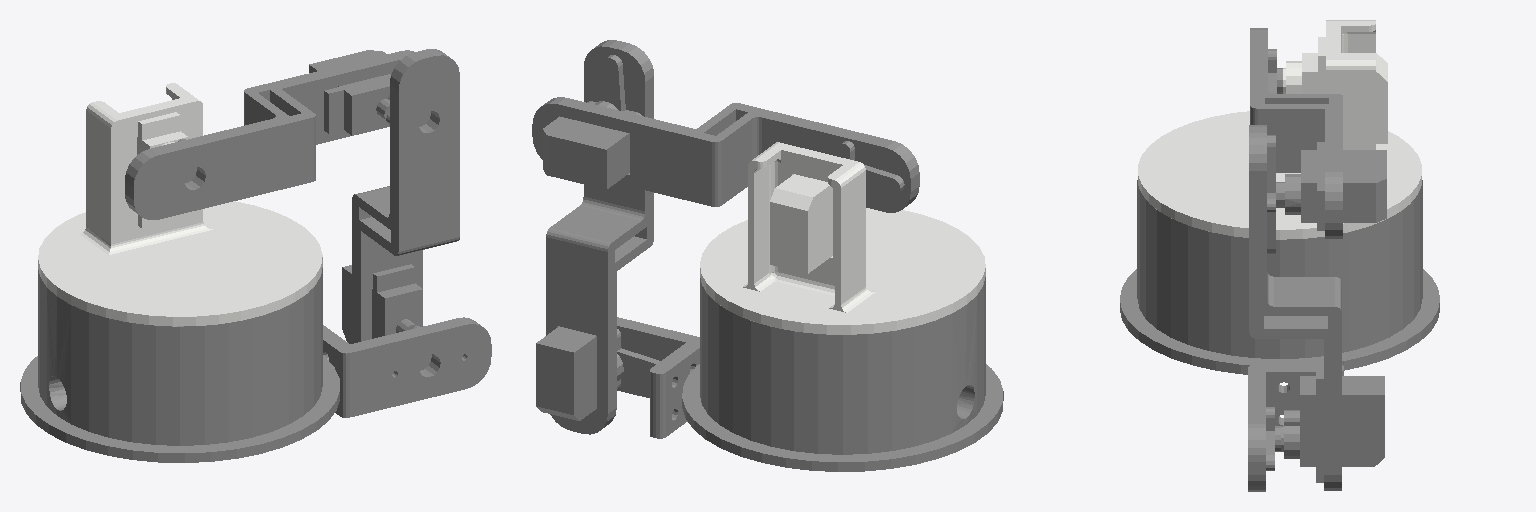
The robot description file, URDF, robot "jdcobot_100_description":
<?xml version="1.0" encoding="utf-8"?>
<!-- This URDF was automatically created by SolidWorks to URDF Exporter! Originally created by [author] ([email redacted]) 
     Commit Version: 1.6.0-4-g7f85cfe  Build Version: 1.6.7995.38578
     For more information, please see http://wiki.ros.org/sw_urdf_exporter -->
<!--
/*MIT License

Copyright (c) 2024 JD edu. http://jdedu.kr author: [email redacted]
     
Permission is hereby granted, free of charge, to any person obtaining a copy
of this software and associated documentation files (the "Software"), to deal
in the Software without restriction, including without limitation the rights
to use, copy, modify, merge, publish, distribute, sublicense, and/or sell
copies of the Software, and to permit persons to whom the Software is
furnished to do so, subject to the following conditions:
     
The above copyright notice and this permission notice shall be included in all
copies or substantial portions of the Software.
     
THE SOFTWARE IS PROVIDED "AS IS", WITHOUT WARRANTY OF ANY KIND, EXPRESS OR
IMPLIED, INCLUDING BUT NOT LIMITED TO THE WARRANTIES OF MERCHANTABILITY,
FITNESS FOR A PARTICULAR PURPOSE AND NONINFRINGEMENT. IN NO EVENT SHALL THE
AUTHORS OR COPYRIGHT [author] ANY CLAIM, DAMAGES OR OTHER
LIABILITY, WHETHER IN AN ACTION OF CONTRACT, TORT OR OTHERWISE, ARISING FROM,
OUT OF OR IN CONNECTION WITH THE SOFTWARE OR THE USE OR OTHER DEALINGS IN TH
SOFTWARE.*/

-->
<robot
  name="jdcobot_100_description">
  <link
    name="base_link">
    <inertial>
      <origin
        xyz="0.0001447 0.019679 -1.9377E-09"
        rpy="0 0 0" />
      <mass
        value="0.20421" />
      <inertia
        ixx="0.00011212"
        ixy="2.8603E-07"
        ixz="-1.2297E-11"
        iyy="0.00016707"
        iyz="-2.1273E-12"
        izz="0.00011109" />
    </inertial>
    <visual>
      <origin
        xyz="0 0 0"
        rpy="0 0 0" />
      <geometry>
        <mesh
          filename="package://jdcobot_100_description/meshes/base_link.STL" />
      </geometry>
      <material
        name="">
        <color
          rgba="0.62745 0.62745 0.62745 1" />
      </material>
    </visual>
    <collision>
      <origin
        xyz="0 0 0"
        rpy="0 0 0" />
      <geometry>
        <mesh
          filename="package://jdcobot_100_description/meshes/base_link.STL" />
      </geometry>
    </collision>
  </link>
  <link
    name="link_1">
    <inertial>
      <origin
        xyz="1.0434E-08 0.0078286 0.011995"
        rpy="-1.5708 0 0" />
      <mass
        value="0.028072" />
      <inertia
        ixx="1.3399E-05"
        ixy="-2.047E-12"
        ixz="8.3813E-13"
        iyy="1.1665E-05"
        iyz="-2.6415E-06"
        izz="1.5368E-05" />
    </inertial>
    <visual>
      <origin
        xyz="0 0 0"
        rpy="-1.5708 0 0" />
      <geometry>
        <mesh
          filename="package://jdcobot_100_description/meshes/link_1.STL" />
      </geometry>
      <material
        name="">
        <color
          rgba="0.96078 0.96078 0.94902 1" />
      </material>
    </visual>
    <collision>
      <origin
        xyz="0 0 0"
        rpy="0 0 0" />
      <geometry>
        <mesh
          filename="package://jdcobot_100_description/meshes/link_1.STL" />
      </geometry>
    </collision>
  </link>
  <joint
    name="joint_1"
    type="revolute">
    <origin
      xyz="0 0 0.04"
      rpy="1.5708 0 0" />
    <parent
      link="base_link" />
    <child
      link="link_1" />
    <axis
      xyz="0 1 0" />
    <limit 
      lower="0"
      upper="3.14"
      effort="100"
      velocity="3" />
  </joint>
  <link
    name="link_2">
    <inertial>
      <origin
        xyz="0.044976 -0.0081943 -0.00014958"
        rpy="0 0 0" />
      <mass
        value="0.020001" />
      <inertia
        ixx="2.9259E-06"
        ixy="4.9182E-06"
        ixz="4.6066E-09"
        iyy="1.7482E-05"
        iyz="-1.0382E-09"
        izz="1.9372E-05" />
    </inertial>
    <visual>
      <origin
        xyz="0 0 0"
        rpy="0 0 0" />
      <geometry>
        <mesh
          filename="package://jdcobot_100_description/meshes/link_2.STL" />
      </geometry>
      <material
        name="">
        <color
          rgba="0.62745 0.62745 0.62745 1" />
      </material>
    </visual>
    <collision>
      <origin
        xyz="0 0 0"
        rpy="0 0 0" />
      <geometry>
        <mesh
          filename="package://jdcobot_100_description/meshes/link_2.STL" />
      </geometry>
    </collision>
  </link>
  <joint
    name="joint_2"
    type="revolute">
    <origin
      xyz="0 0.03045 0"
      rpy="-1.5708 3.1416 3.1416" />
    <parent
      link="link_1" />
    <child
      link="link_2" />
    <axis
      xyz="0 1 0" />
    <limit 
      lower="0"
      upper="3.14"
      effort="100"
      velocity="3" />
  </joint>
  <link
    name="link_3">
    <inertial>
      <origin
        xyz="0.044976 -0.0078943 -0.00014958"
        rpy="0 0 0" />
      <mass
        value="0.020001" />
      <inertia
        ixx="2.9259E-06"
        ixy="4.9182E-06"
        ixz="4.6066E-09"
        iyy="1.7482E-05"
        iyz="-1.0382E-09"
        izz="1.9372E-05" />
    </inertial>
    <visual>
      <origin
        xyz="0 0 0"
        rpy="0 0 0" />
      <geometry>
        <mesh
          filename="package://jdcobot_100_description/meshes/link_3.STL" />
      </geometry>
      <material
        name="">
        <color
          rgba="0.62745 0.62745 0.62745 1" />
      </material>
    </visual>
    <collision>
      <origin
        xyz="0 0 0"
        rpy="0 0 0" />
      <geometry>
        <mesh
          filename="package://jdcobot_100_description/meshes/link_3.STL" />
      </geometry>
    </collision>
  </link>
  <joint
    name="joint_3"
    type="revolute">
    <origin
      xyz="0.07565 0 -0.0001547"
      rpy="0 -1.5708 0" />
    <parent
      link="link_2" />
    <child
      link="link_3" />
    <axis
      xyz="0 1 0" />
    <limit 
      lower="0"
      upper="3.14"
      effort="100"
      velocity="3" />
  </joint>
  <link
    name="link_4">
    <inertial>
      <origin
        xyz="0.010138 -0.0022824 -0.00014019"
        rpy="3.1416 0 0" />
      <mass
        value="0.007057" />
      <inertia
        ixx="5.5769E-07"
        ixy="-3.8132E-07"
        ixz="1.0384E-09"
        iyy="1.769E-06"
        iyz="2.6635E-11"
        izz="1.8807E-06" />
    </inertial>
    <visual>
      <origin
        xyz="0 0 0"
        rpy="3.1416 0 0" />
      <geometry>
        <mesh
          filename="package://jdcobot_100_description/meshes/link_4.STL" />
      </geometry>
      <material
        name="">
        <color
          rgba="0.62745 0.62745 0.62745 1" />
      </material>
    </visual>
    <collision>
      <origin
        xyz="0 0 0"
        rpy="0 0 0" />
      <geometry>
        <mesh
          filename="package://jdcobot_100_description/meshes/link_4.STL" />
      </geometry>
    </collision>
  </link>
  <joint
    name="joint_4"
    type="revolute">
    <origin
      xyz="0.07565 0 -0.0001547"
      rpy="3.1416 -1.5708 3.1416" />
    <parent
      link="link_3" />
    <child
      link="link_4" />
    <axis
      xyz="0 1 0" />
    <limit 
      lower="0"
      upper="3.14"
      effort="100"
      velocity="3" />
  </joint>
</robot>

--- Render facts (derived) ---
The picture shows the robot from 3 angles, left to right: view 1: azimuth 30°, elevation 25°; view 2: azimuth 150°, elevation 25°; view 3: azimuth 270°, elevation 25°; orthographic projection.
Robot: jdcobot_100_description — 5 links, 4 joints (4 revolute); root link base_link; default pose: all joints at 0.
Visible links, largest first — view 1: base_link, link_1, link_3, link_2, link_4; view 2: base_link, link_1, link_2, link_3, link_4; view 3: base_link, link_1, link_3, link_2, link_4.
Boxes of the visible links, x1,y1,x2,y2 form: base_link: (20,266,339,462); link_1: (38,83,322,326); link_3: (342,49,459,343); link_2: (125,50,413,219); link_4: (323,317,491,417); base_link: (682,277,1003,471); link_1: (700,142,985,334); link_2: (532,97,919,212); link_3: (536,40,653,434); link_4: (617,317,699,438); base_link: (1120,180,1439,374); link_1: (1138,20,1421,239); link_3: (1249,125,1384,490); link_2: (1250,28,1386,238); link_4: (1248,364,1343,491).
Size in the robot's own frame: 0.1407 by 0.09 by 0.11 metres.
5 mesh visuals loaded from 5 distinct referenced files (5 binary STL).
